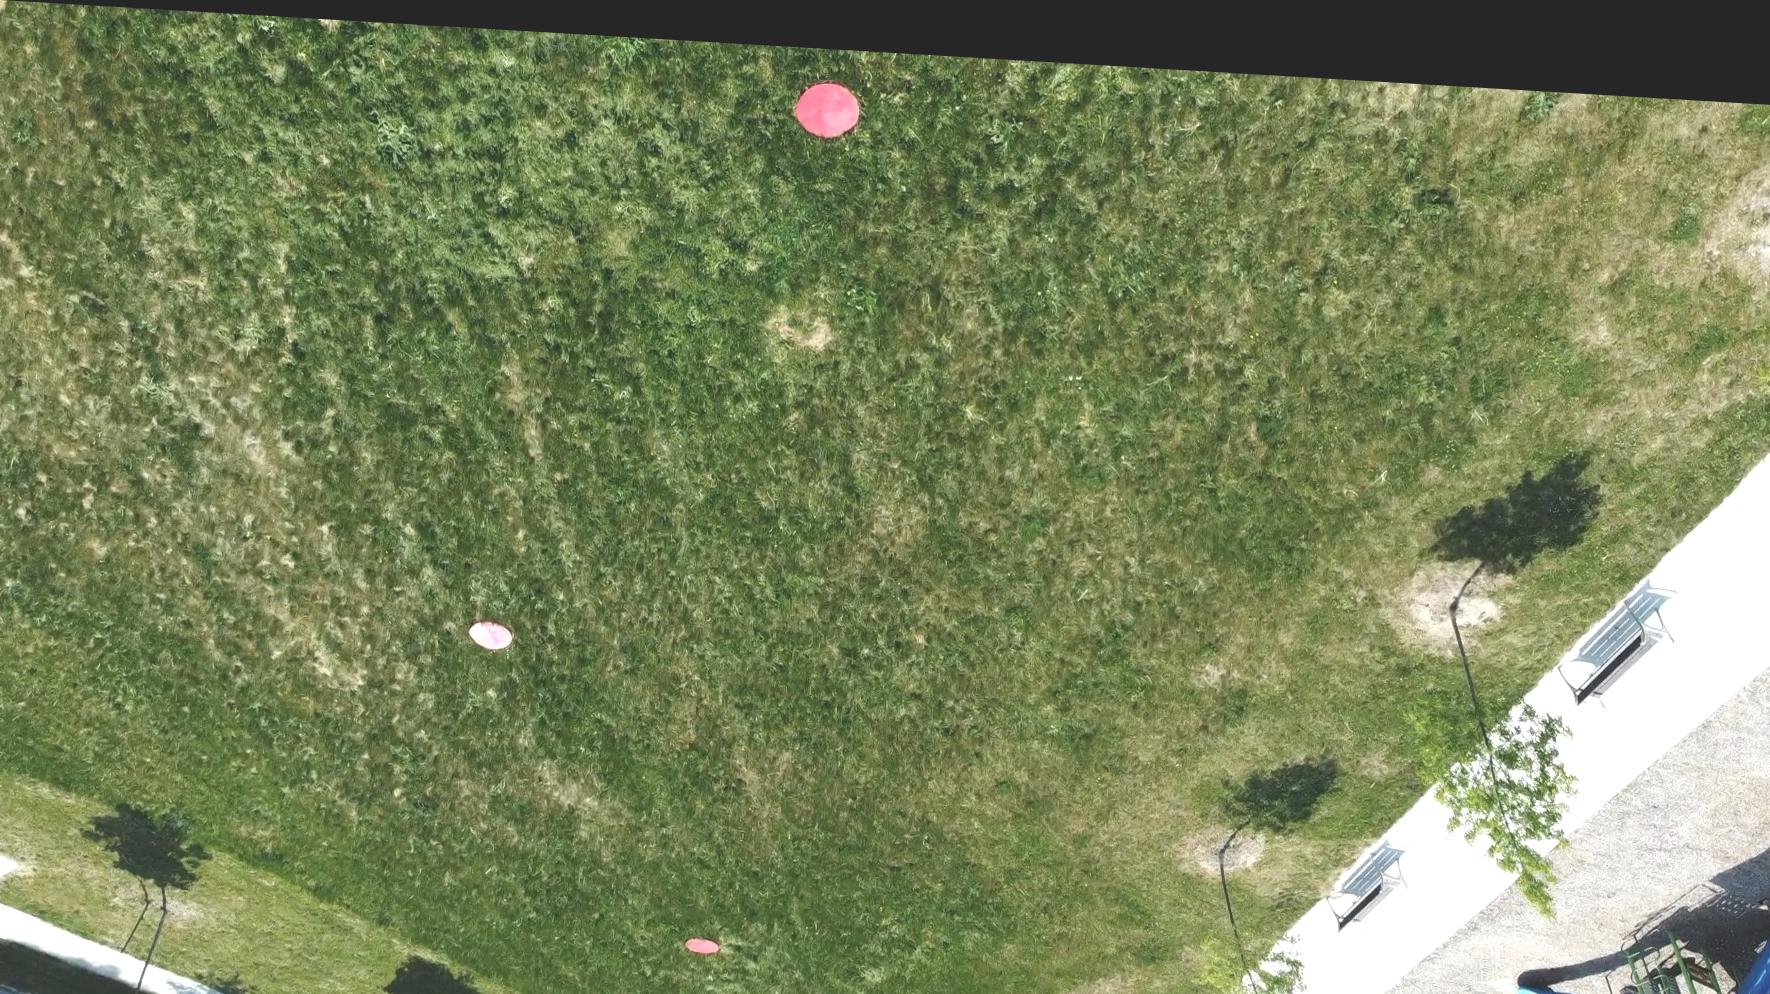Red: (791, 66, 863, 132), (461, 608, 517, 650), (681, 925, 721, 949)
